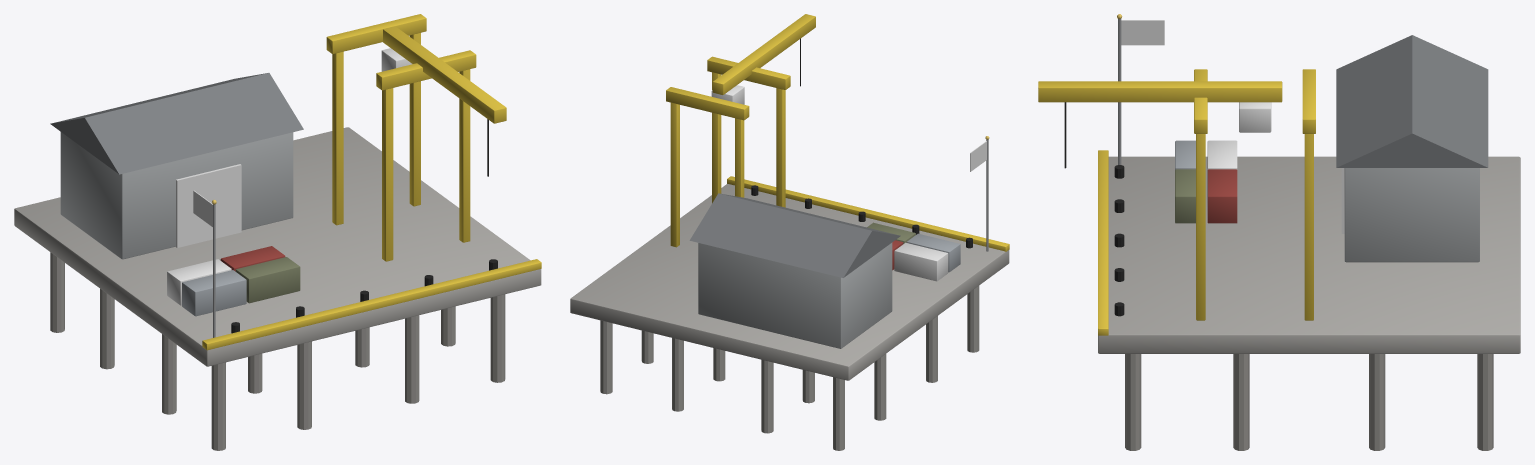
File: naval_yard.glb
The picture shows the model from 3 angles, left to right: view 1: azimuth 30°, elevation 25°; view 2: azimuth 150°, elevation 25°; view 3: azimuth 270°, elevation 25°; orthographic projection. The views are drawn at different scales.
Parts seen in each view (by area): view 1: body; view 2: body; view 3: body.
Boxes of the visible parts, left/top/right/bottom form: body: left=14, top=14, right=541, bottom=450; body: left=570, top=14, right=1009, bottom=450; body: left=1038, top=14, right=1520, bottom=450.
Bounding box in the file's own units: 15.6 × 13.9 × 17.8.
